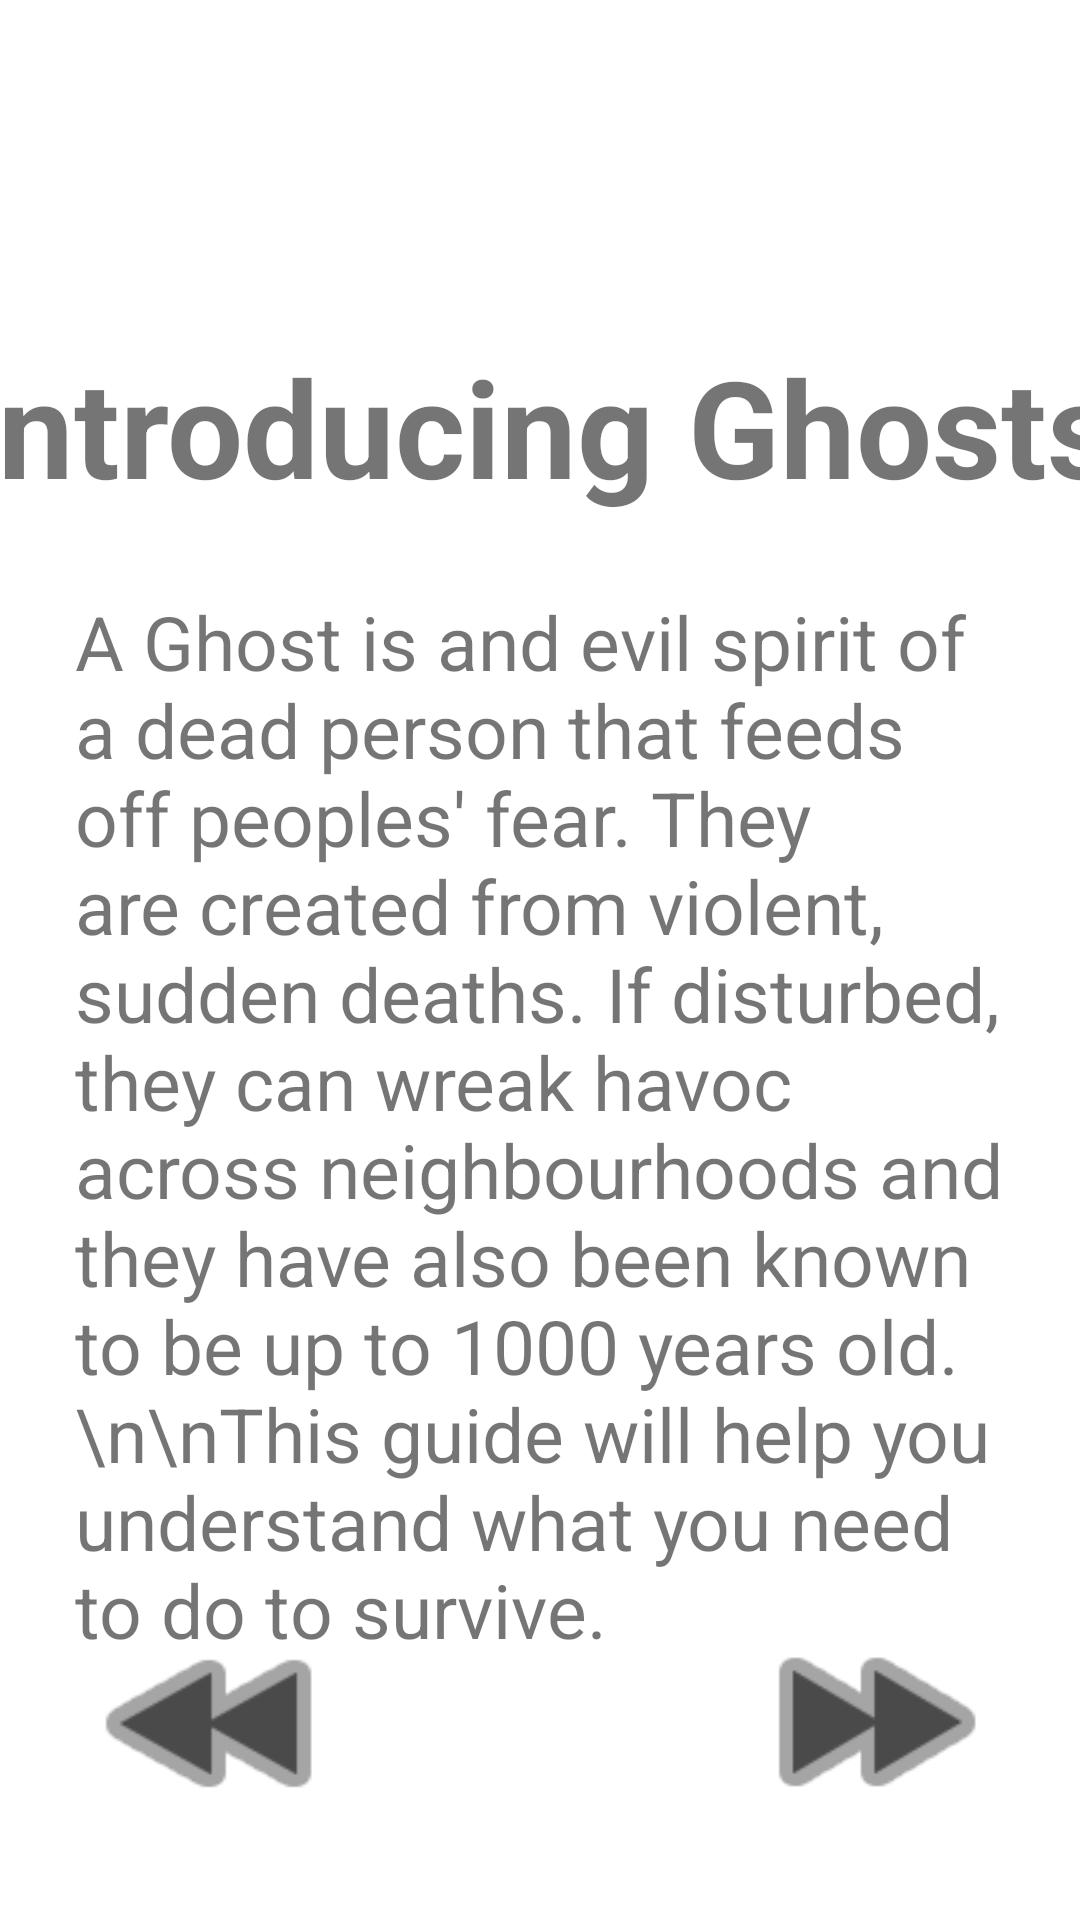

Icon click points for this 1080x1920 phone screenshot, format (x,y):
rew: (216,1694)
